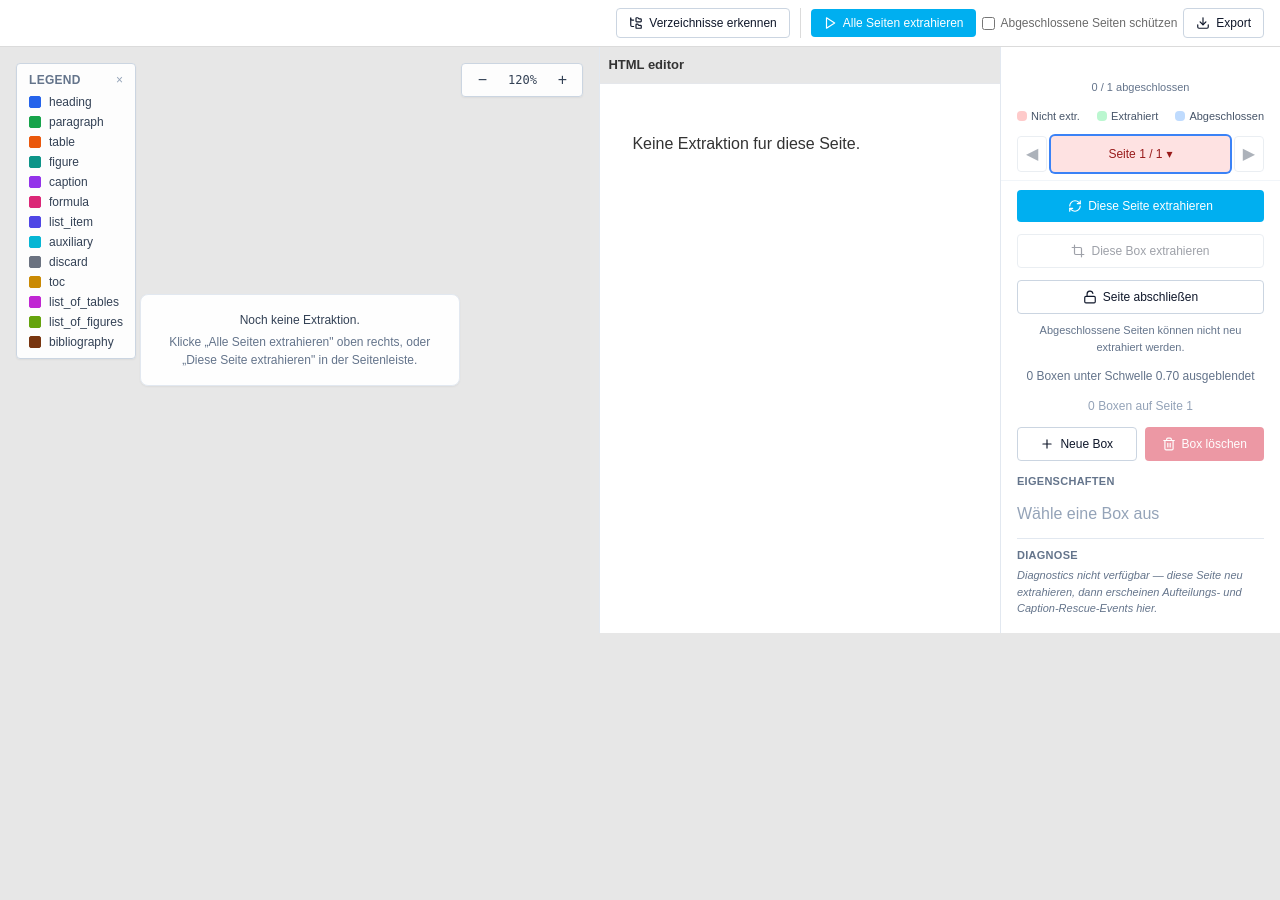
ExtractRoute › lock button label toggles to 'Seite wieder öffnen' after marking done
This screenshot has width=1280, height=900.
Expected: the element with test id "html-editor-host" is shown, [600,84,1000,632]
Click the button "Seite abschließen".
click(1140, 297)  # box [1017,280,1264,314]
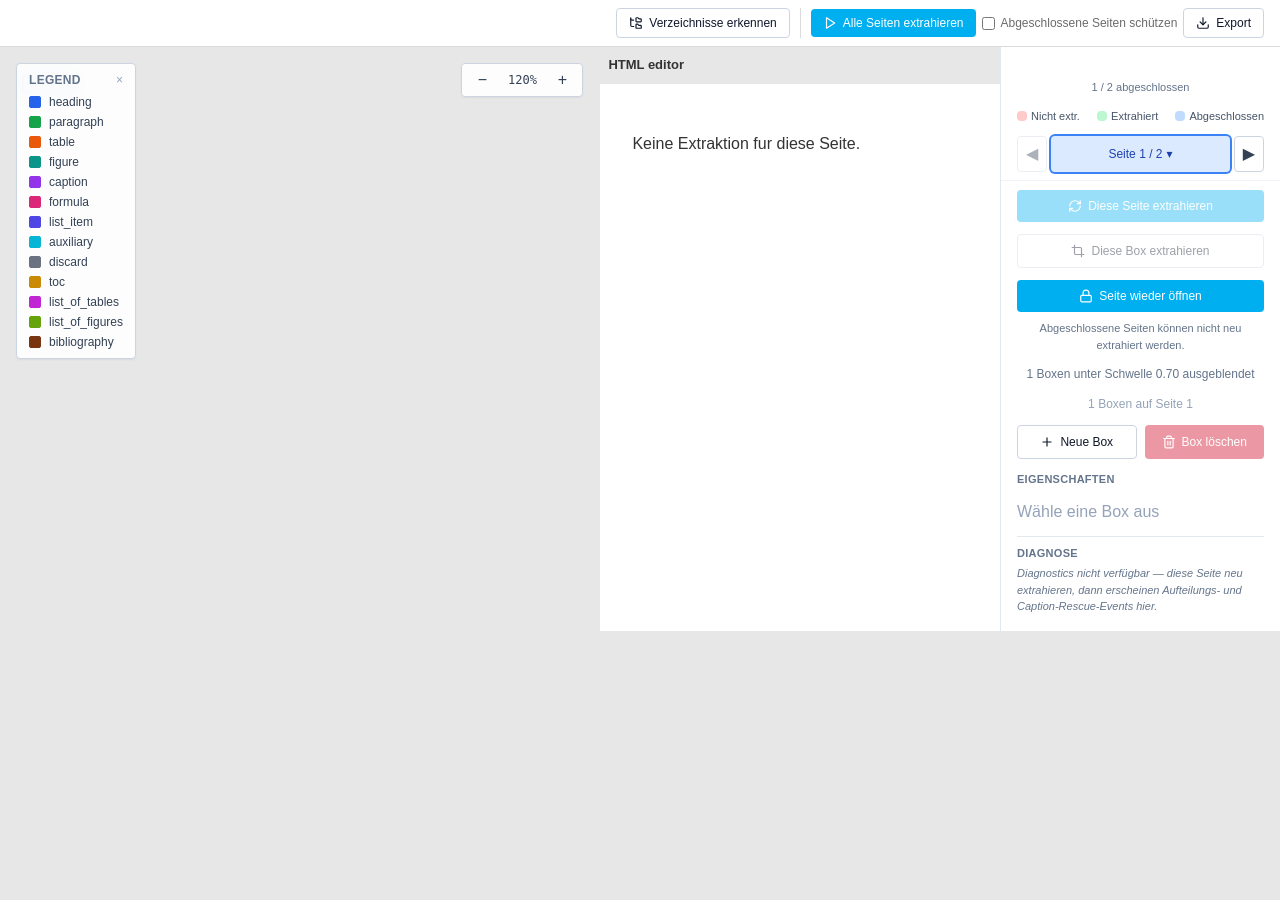
Expected: the button "Seite wieder öffnen" is shown, [1017,280,1264,312]
